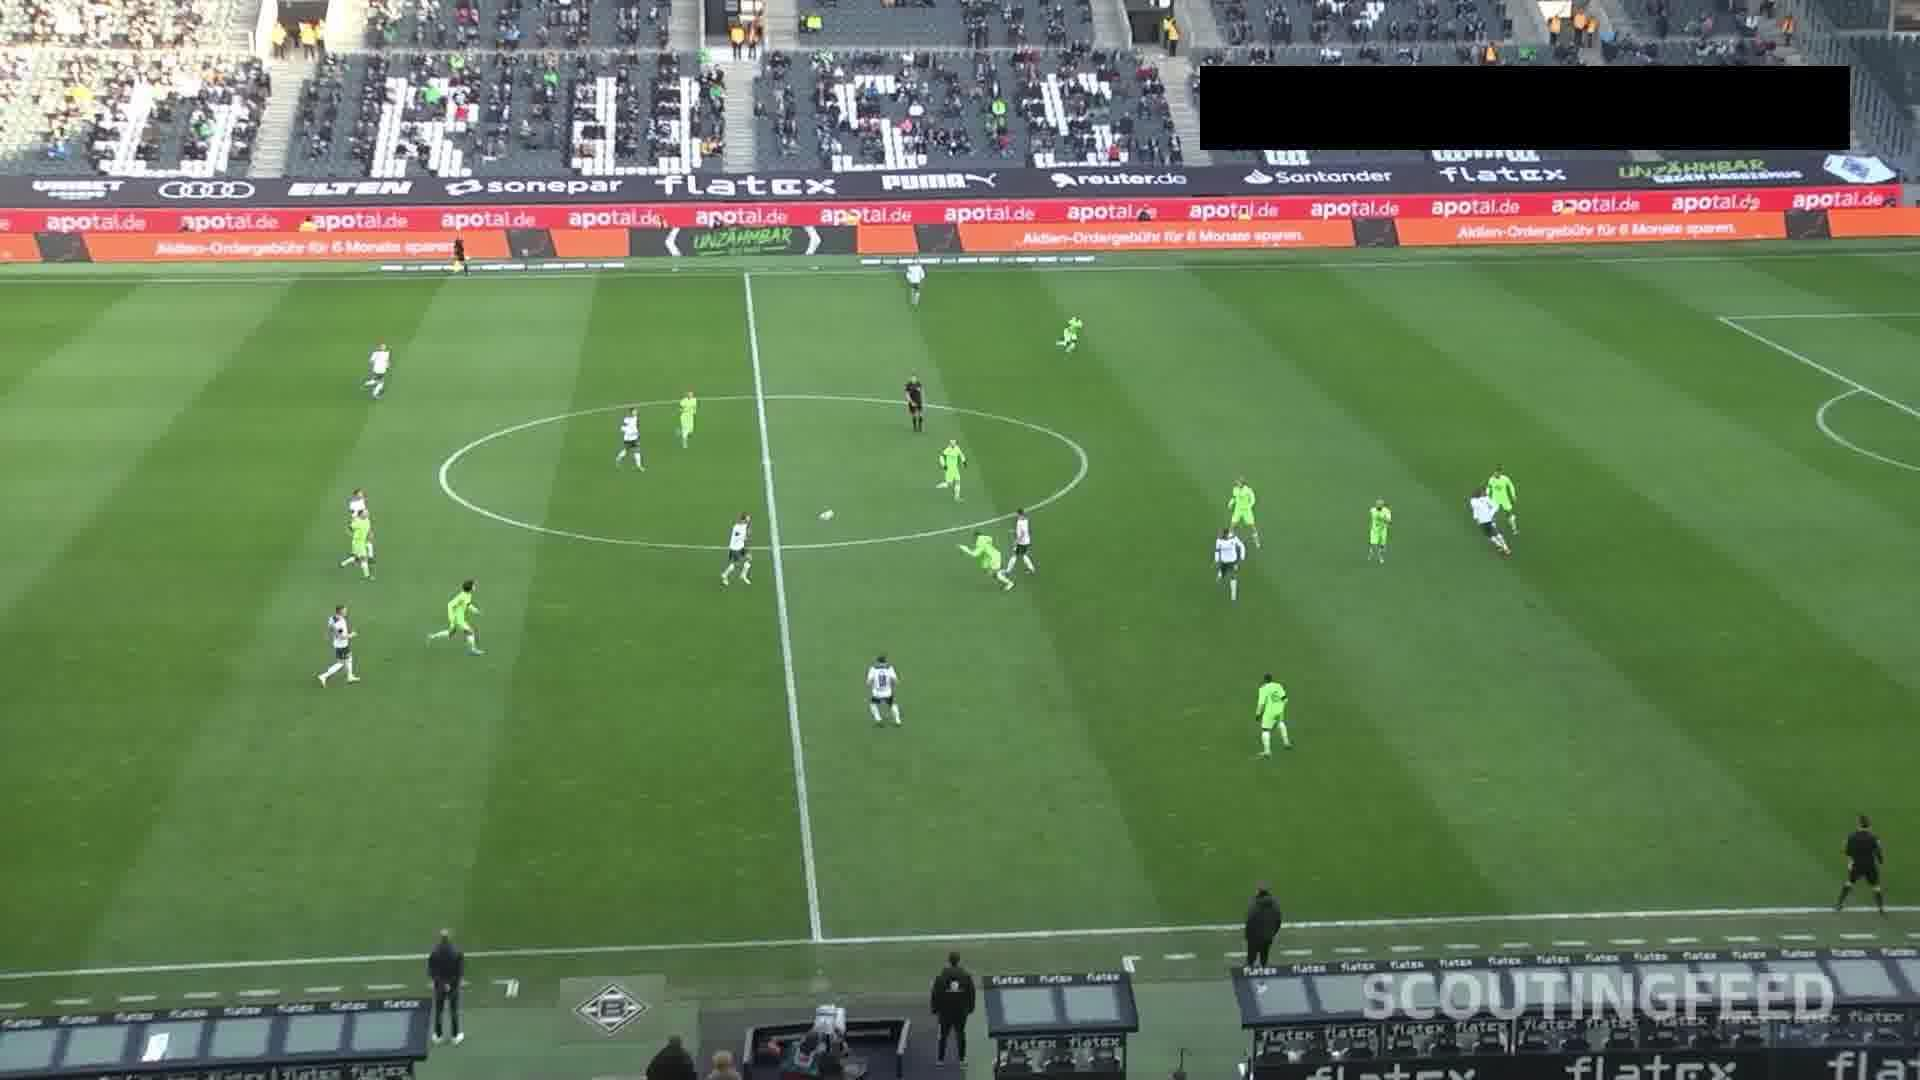football: (820, 509, 833, 522)
